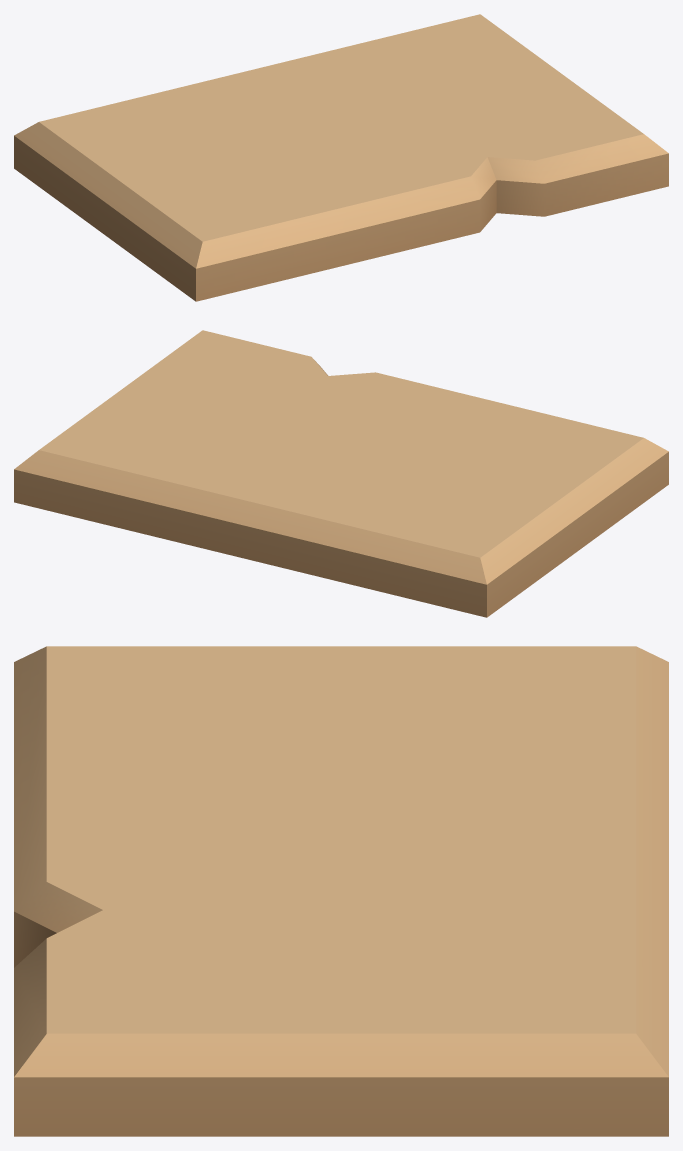
File: cuttingboard.obj
3 renders of one model, top to bottom at view 1: azimuth 30°, elevation 25°; view 2: azimuth 150°, elevation 25°; view 3: azimuth 270°, elevation 25°, orthographic. The views are drawn at different scales.
Visible parts, largest first — view 1: cuttingboard_Cube.555; view 2: cuttingboard_Cube.555; view 3: cuttingboard_Cube.555.
Boxes of the visible parts, <box> form: cuttingboard_Cube.555: <box>14,14,668,301</box>; cuttingboard_Cube.555: <box>14,330,668,617</box>; cuttingboard_Cube.555: <box>14,646,668,1136</box>.
Bounding box in the file's own units: 1.5 × 0.15 × 1.
Materials: 1 (1 with a texture image).
